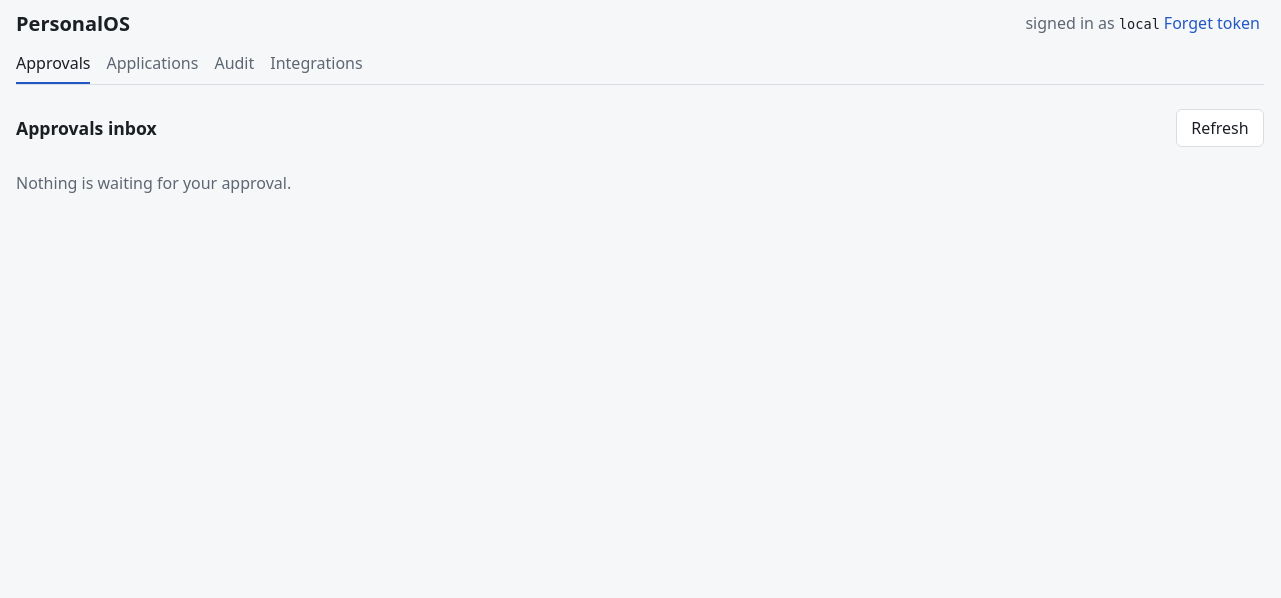
Scenario: navigation › switches between the approvals inbox and the board
The width and height of the screenshot is (1281, 598).
Expected: the heading "Approvals inbox" is shown, [16,116,157,141]
Click the link "Applications".
click(152, 63)  # box [106,52,198,74]
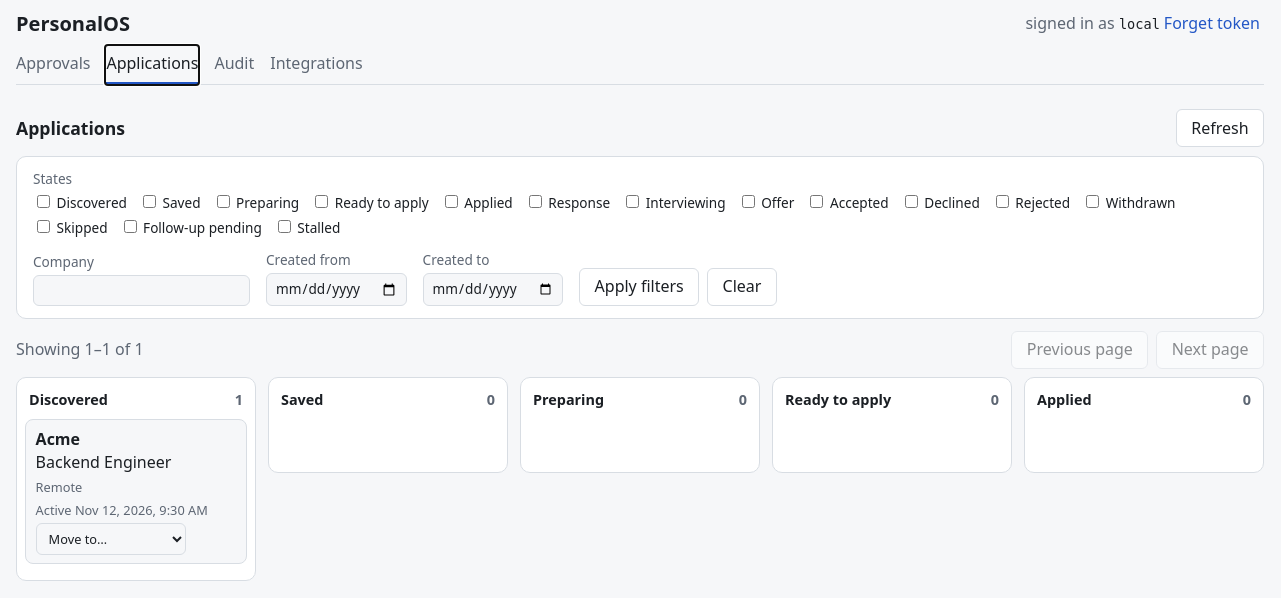
Expected: the heading "Applications" is shown, [16,116,125,141]
Expected: the element with test id "board-card" shows "Acme", [36,428,236,474]
